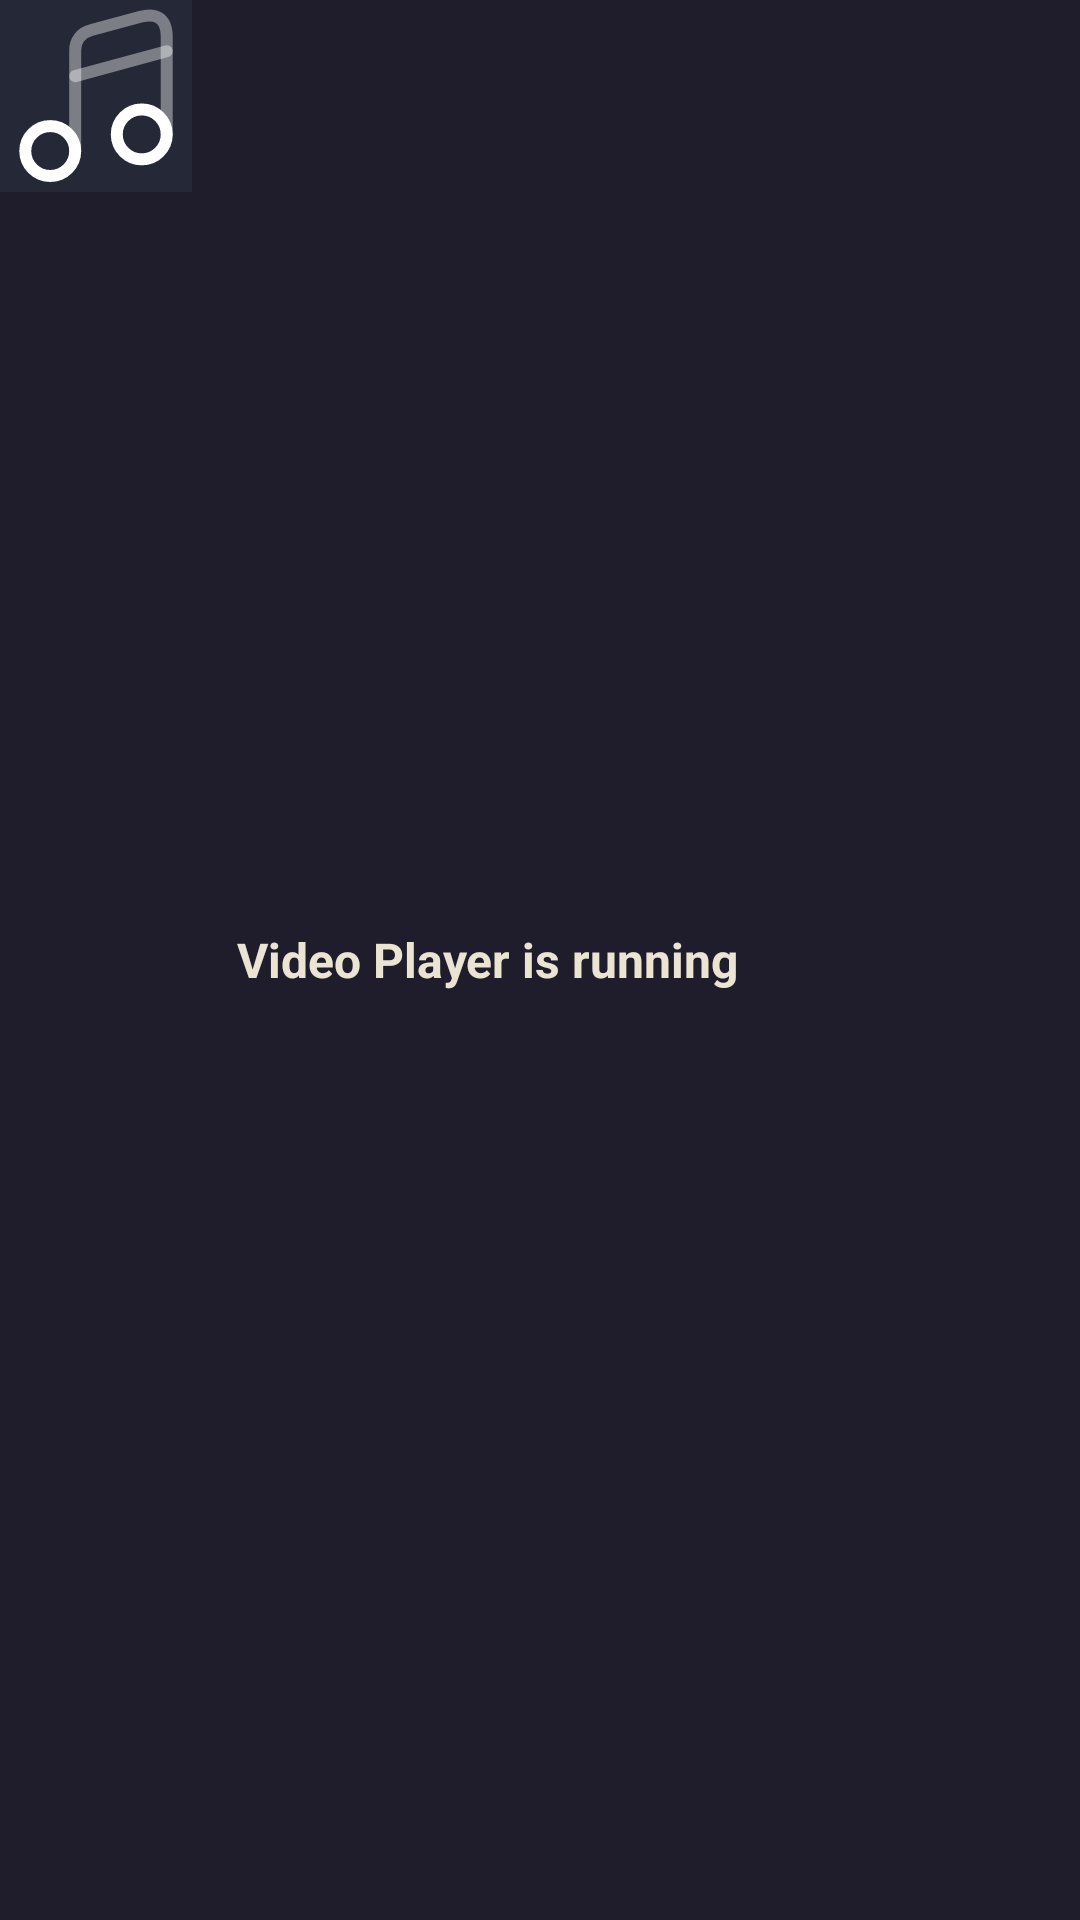

Icons on this 1080*1920 Android screen, each with its box as (x1, y1, x2, y2):
audio only: (0, 0, 192, 192)
